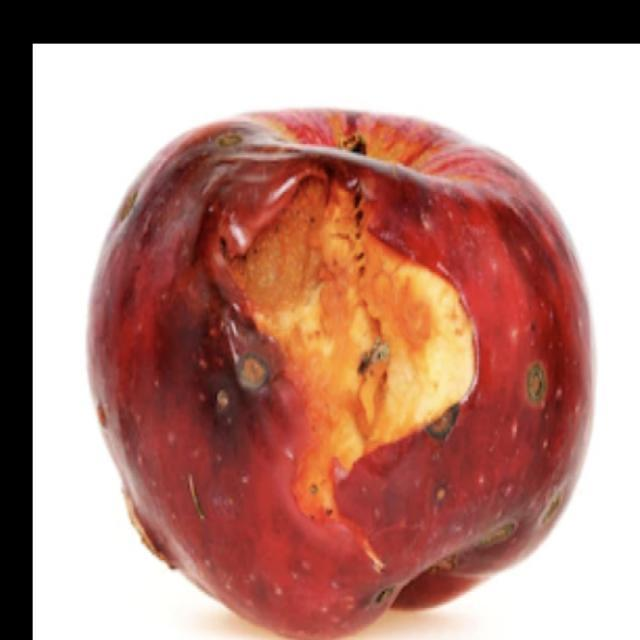Rotten: (98, 110, 572, 633)
